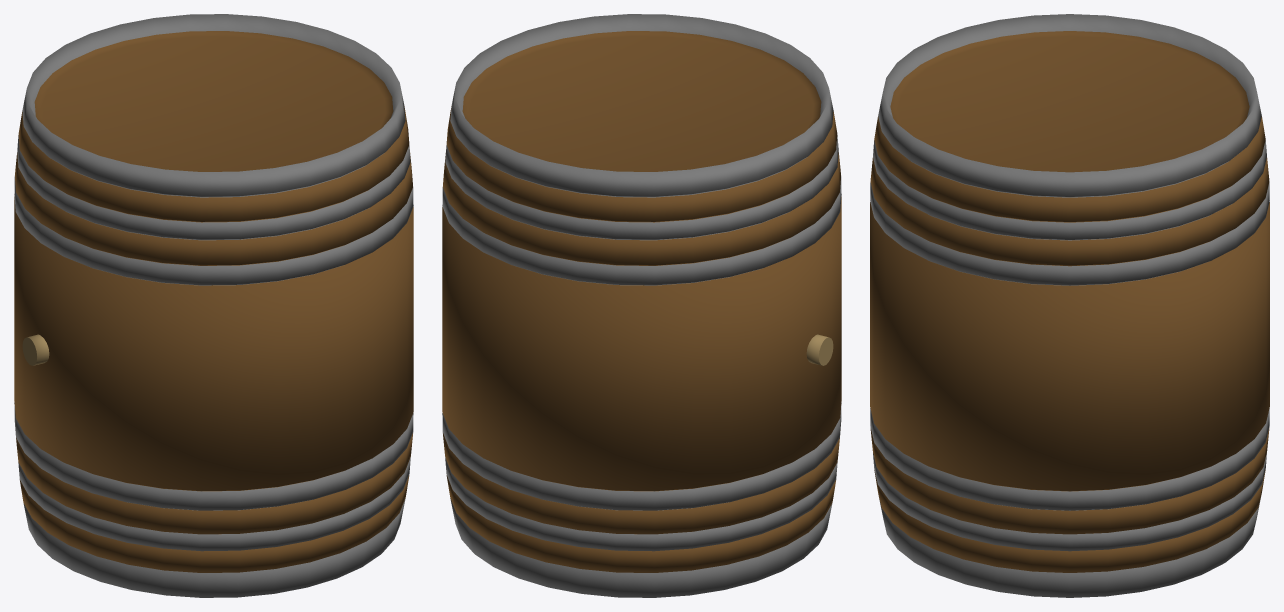
File: barrel.fbx
3 views of the same model, side by side, from view 1: azimuth 30°, elevation 25°; view 2: azimuth 150°, elevation 25°; view 3: azimuth 270°, elevation 25° (orthographic).
Parts seen in each view (by area): view 1: Cylinder, Cylinder.001; view 2: Cylinder, Cylinder.001; view 3: Cylinder.
Boxes of the visible parts, x1,y1,x2,y2 form: Cylinder: [14, 14, 413, 597]; Cylinder.001: [22, 334, 49, 365]; Cylinder: [442, 14, 841, 597]; Cylinder.001: [806, 334, 833, 365]; Cylinder: [870, 14, 1269, 597].
Bounding box in the file's own units: 1.47 × 1.73 × 1.52.
